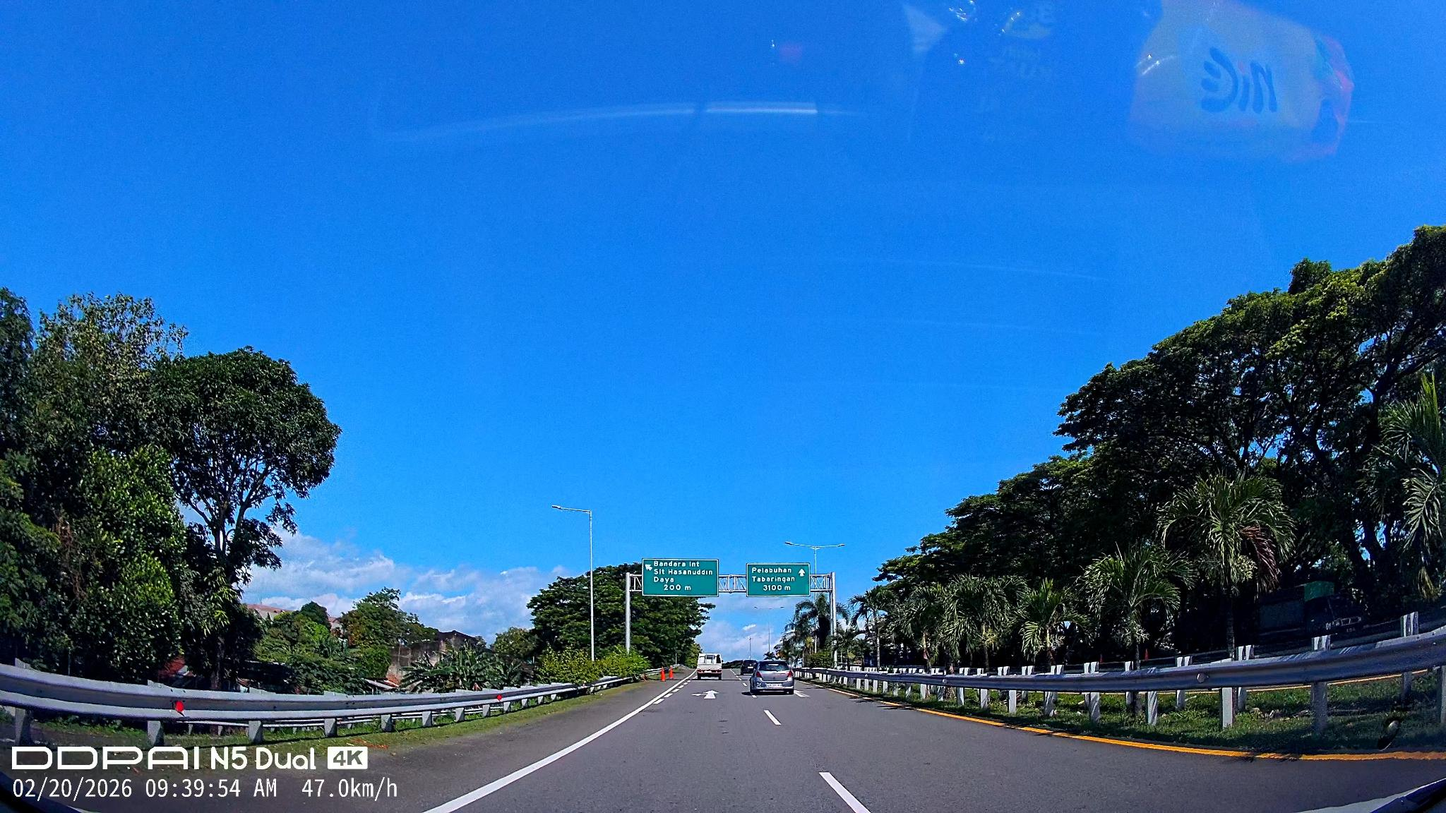rambu_teks: (641, 558, 719, 597), (746, 563, 810, 597)
